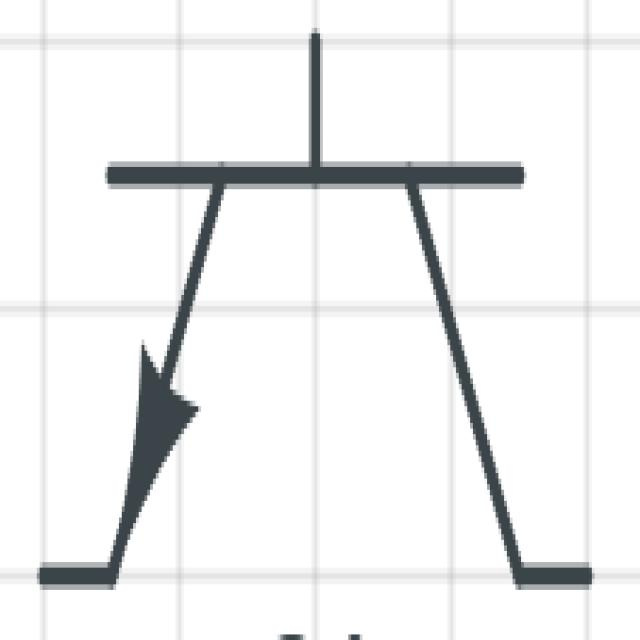bjt: (35, 47, 608, 630)
